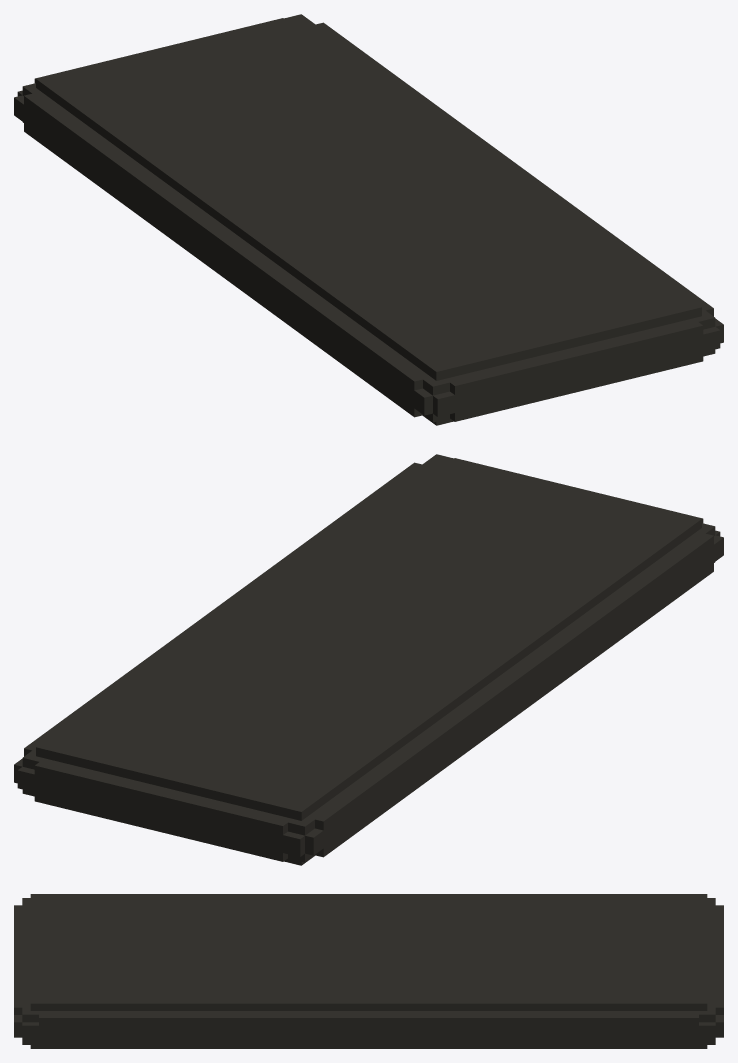
Rendered from factory4.5-16.obj.
The picture shows the model from 3 angles, top to bottom: view 1: azimuth 30°, elevation 25°; view 2: azimuth 150°, elevation 25°; view 3: azimuth 270°, elevation 25°; orthographic projection. The views are drawn at different scales.
Size of the model in its own units: 3.5 by 0.6 by 8.5.
1 material, 1 textured.
